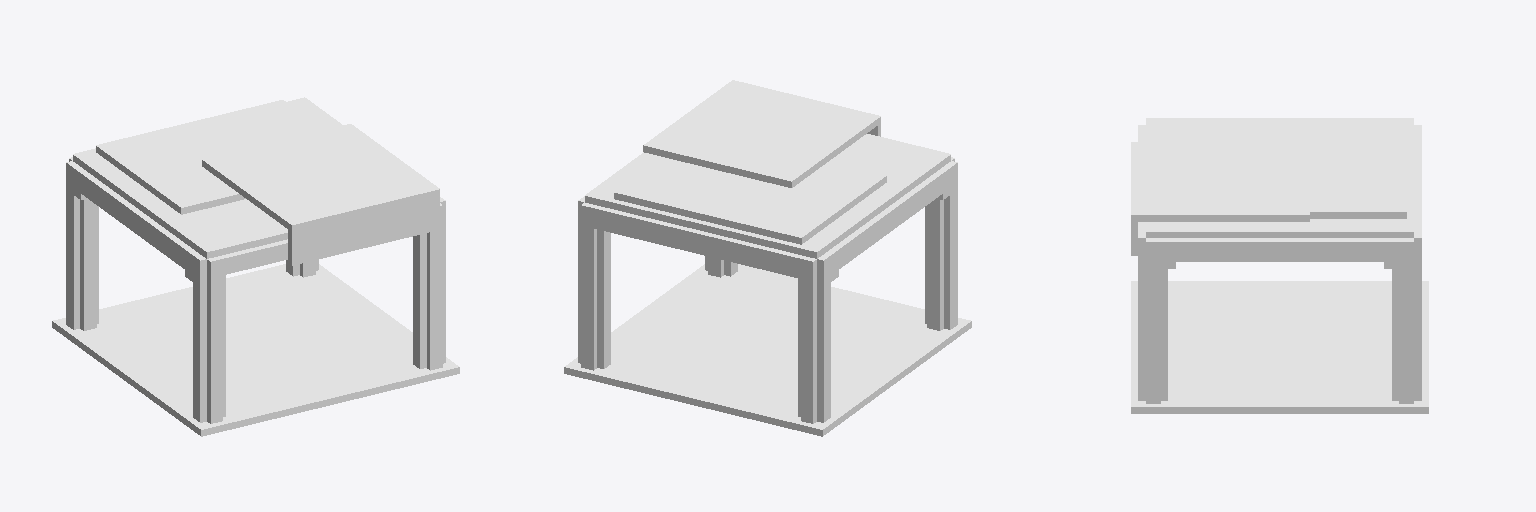
The model's file is Mesa_Jornal_1.obj.
The picture shows the model from 3 angles: view 1: azimuth 30°, elevation 25°; view 2: azimuth 150°, elevation 25°; view 3: azimuth 270°, elevation 25°; orthographic projection.
Size of the model in its own units: 40 by 28 by 40.